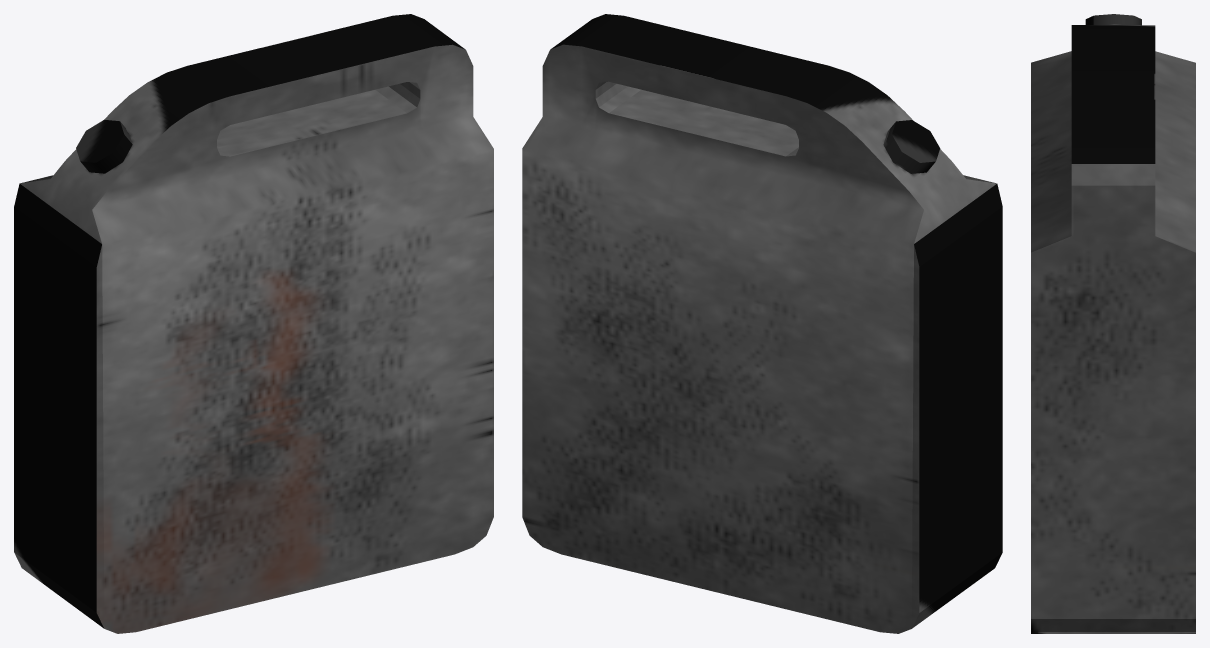
The model's file is bidon.fbx.
The picture shows the model from 3 angles, left to right: view 1: azimuth 30°, elevation 25°; view 2: azimuth 150°, elevation 25°; view 3: azimuth 270°, elevation 25°; orthographic projection.
Parts seen in each view (by area): view 1: Bidon; view 2: Bidon; view 3: Bidon.
Boxes of the visible parts, box(x1,y1,x2,y2) form: Bidon: box(14, 14, 493, 633); Bidon: box(522, 14, 1002, 633); Bidon: box(1031, 14, 1195, 633).
Size of the model in its own units: 28.22 by 33.44 by 10.2.
